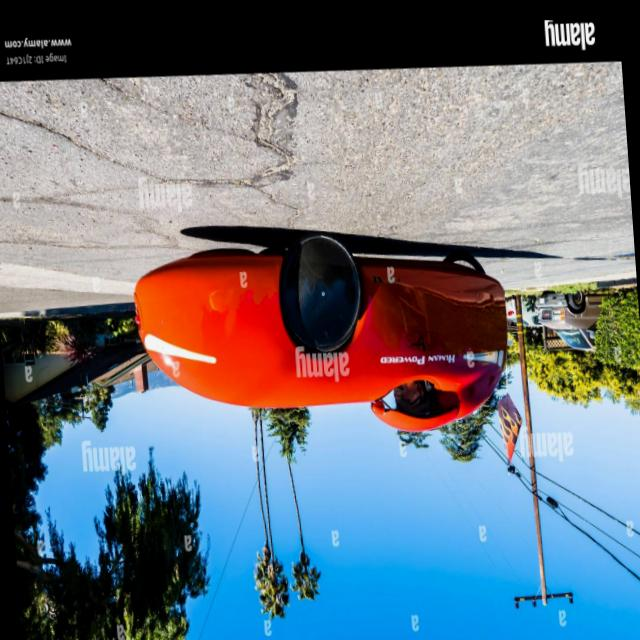recumbent-bike: (122, 206, 514, 454)
